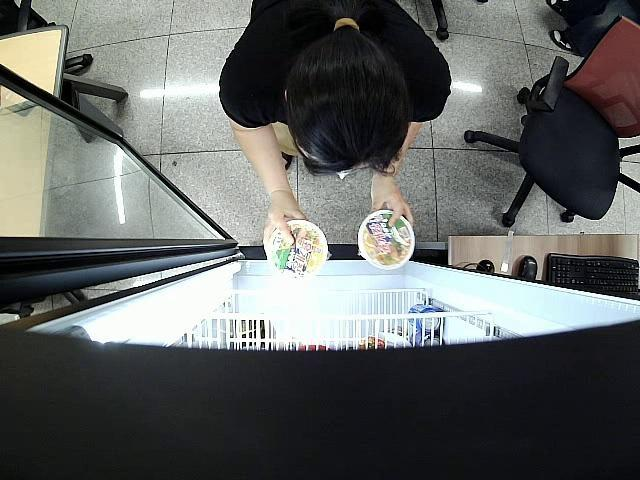09_yukGaeJang: (266, 219, 328, 283), (358, 210, 416, 271)
